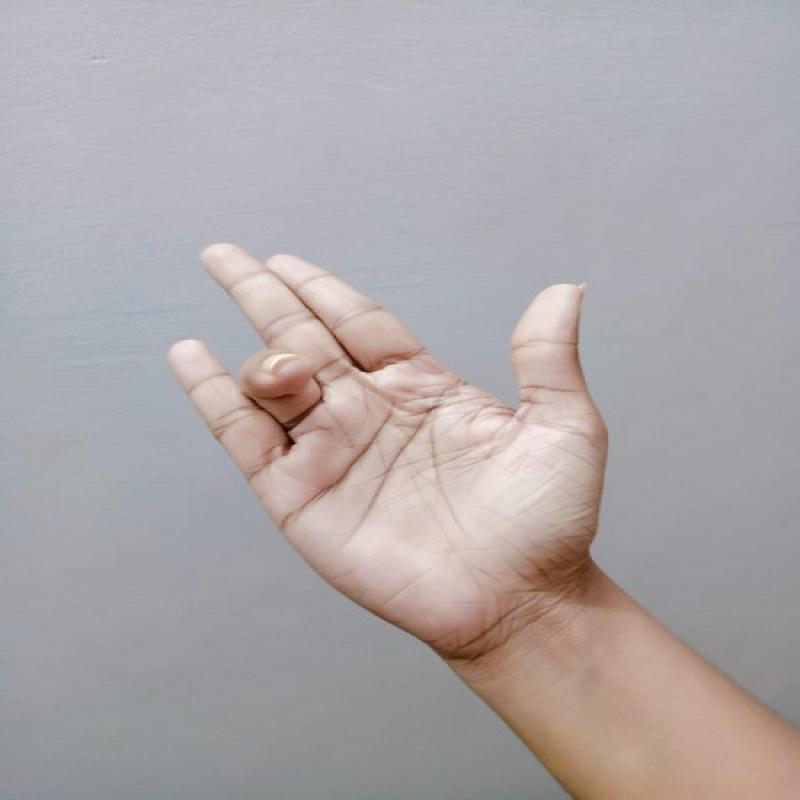Pathaaka: (161, 213, 635, 660)
